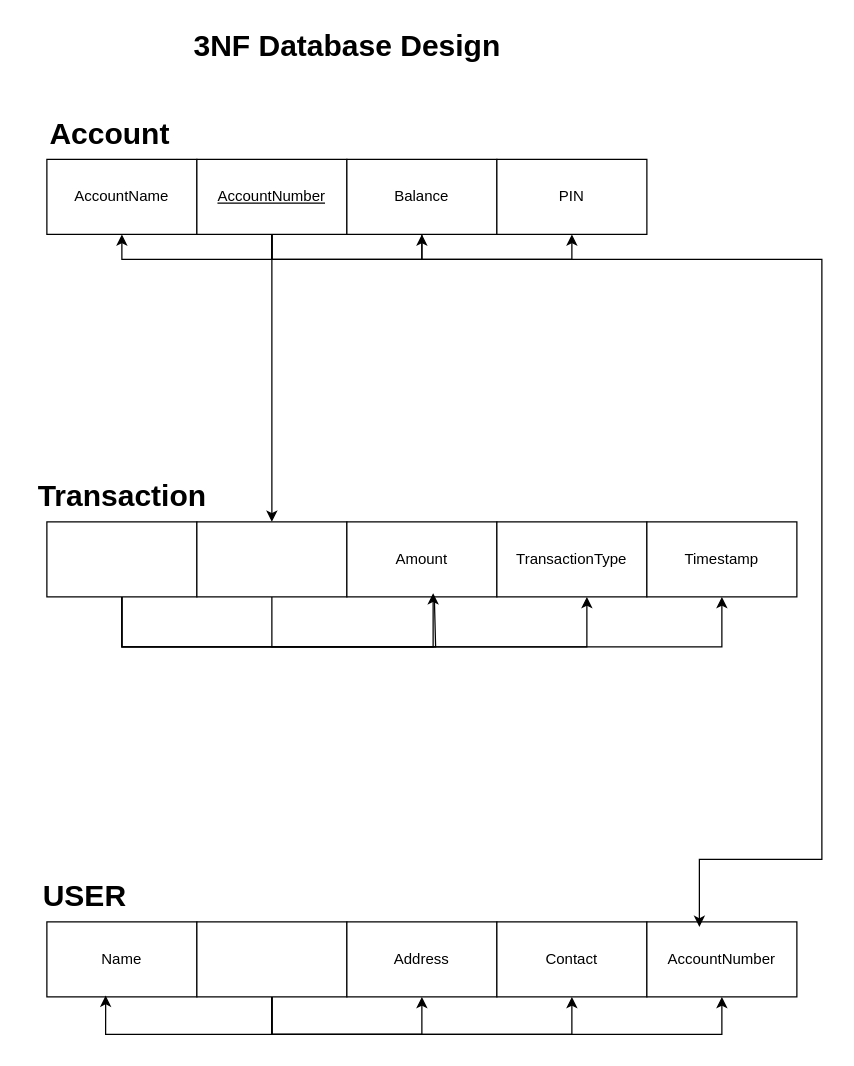
Some shapes in this 854 by 1066 pixel diagram are drawn without their labels. The box of each missing label's shape, as (x1, y1, x2, y2) in pixels:
AccountNumber1: (196, 521, 347, 597)
CNIC: (196, 921, 347, 997)
TransactionID: (46, 521, 197, 597)
